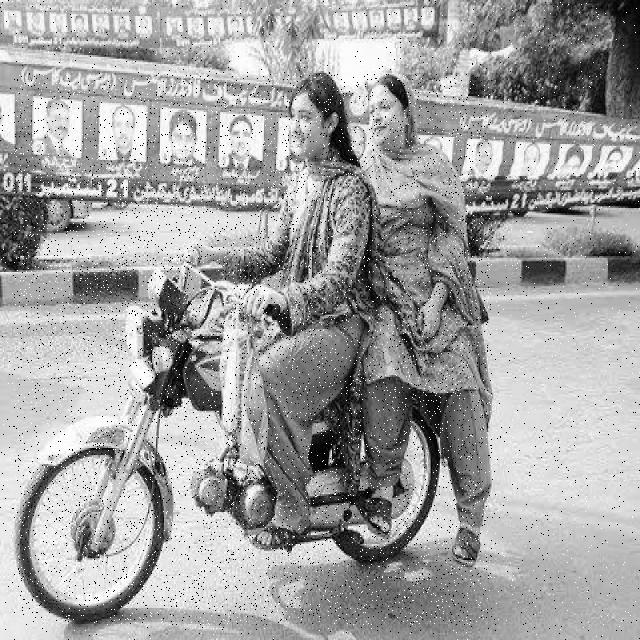Motorbike: (14, 74, 492, 625)
